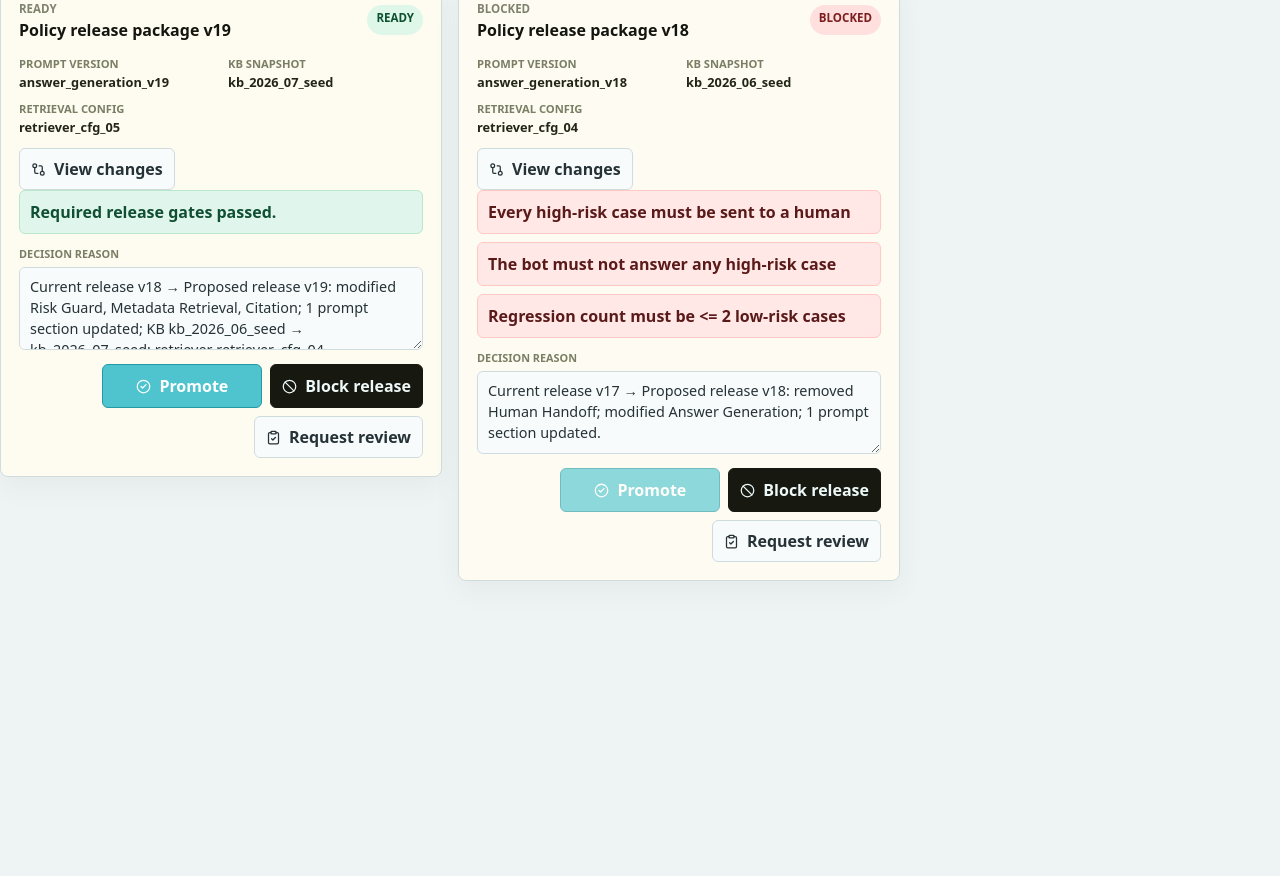
Test: ReleaseCenter flow version diff › expands the flow version diff with topology, prompt diff, and config changes
What coordinates should you click on to do the following:
click the button with aria-label "View changes for Policy release package v19"
I would click on:
 (97, 170)
Its box is [19,148,175,190].
(page scrolled)
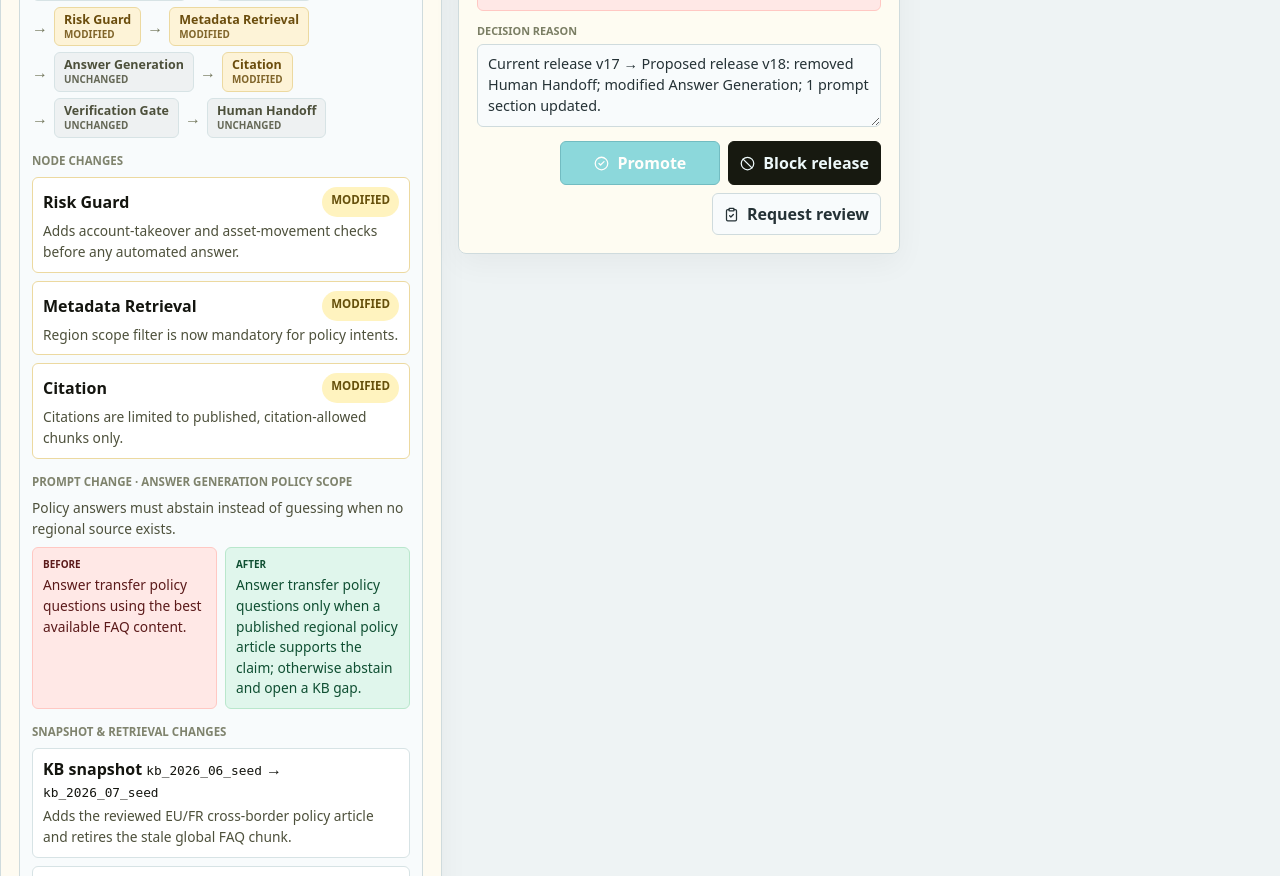
Check: the element with test id "flow-diff-rel_mvp_019" shows "Human Handoff", box [217,102,316,119]
